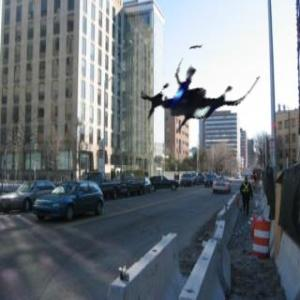drone: (143, 44, 248, 149)
